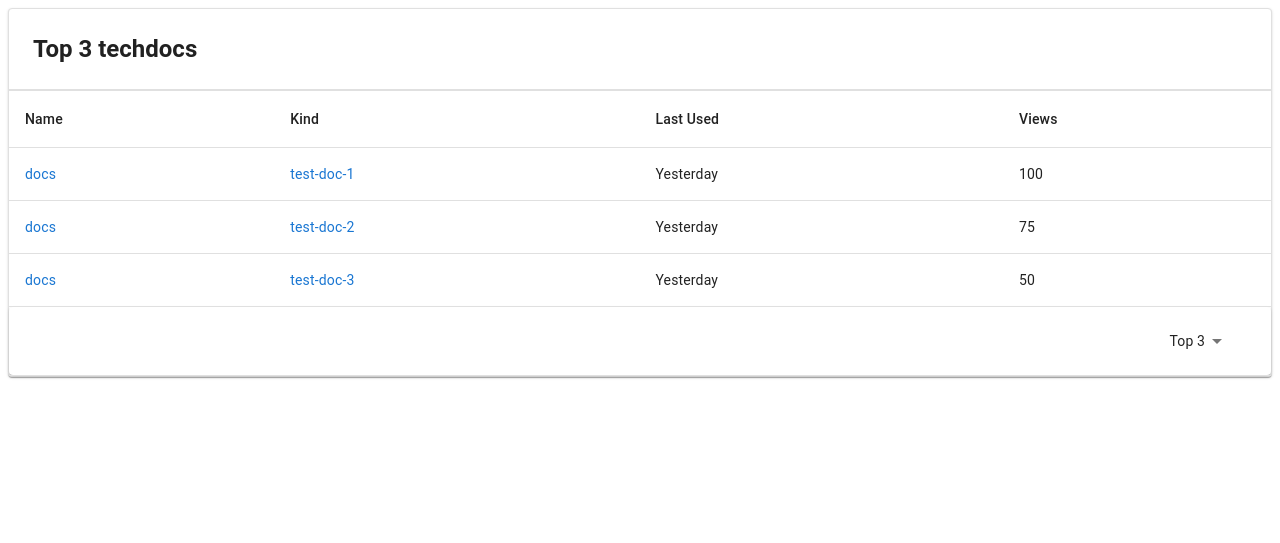
Test: Techdocs › should handle pagination correctly
Click the dropdown: (1187, 340) x1=1170 y1=332 x2=1205 y2=348
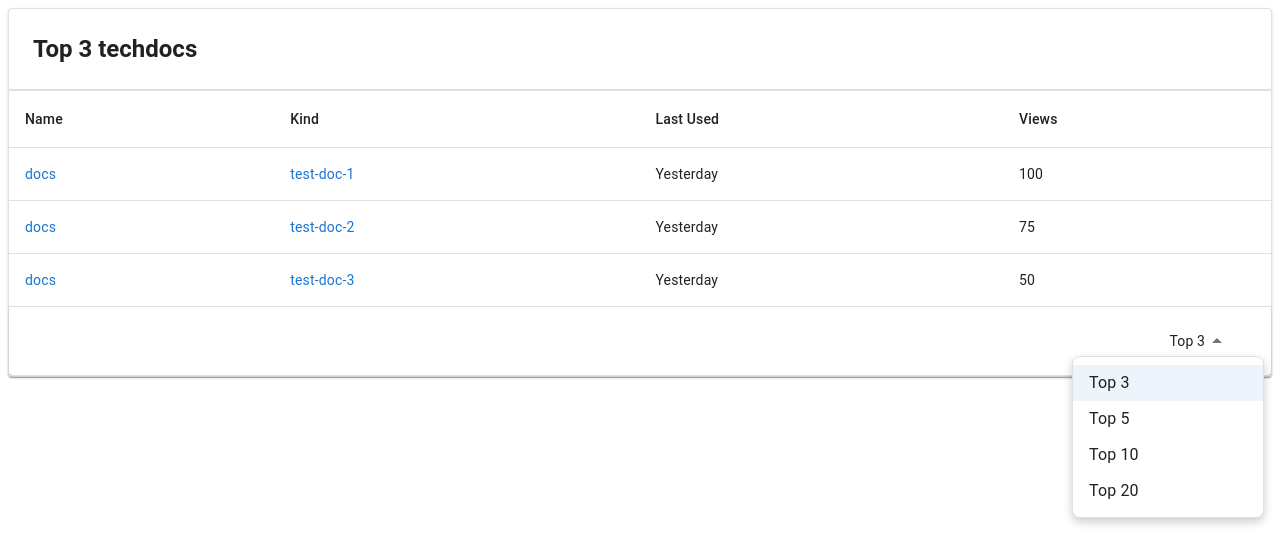
Click the option "Top 5": (1109, 418) x1=1089 y1=409 x2=1130 y2=428
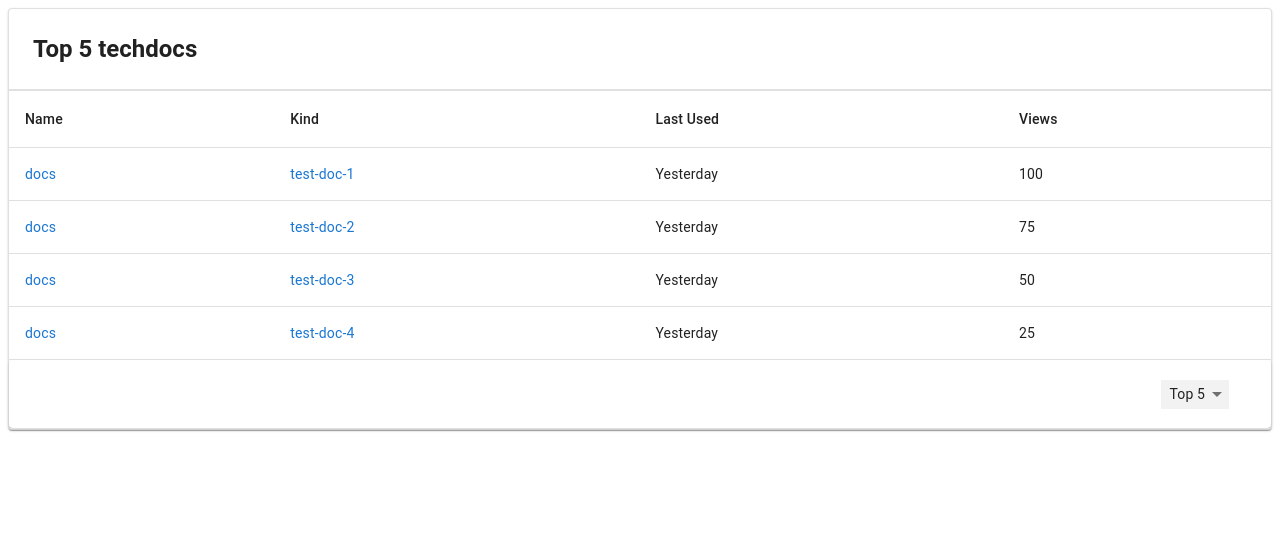
Expected: the heading "Top 5 techdocs" is shown, x1=33 y1=35 x2=197 y2=63
Expected: the number of rows is 6, x1=9 y1=91 x2=1271 y2=148; x1=9 y1=148 x2=1271 y2=200; x1=9 y1=200 x2=1271 y2=254; x1=9 y1=254 x2=1271 y2=306; x1=9 y1=307 x2=1271 y2=360; x1=9 y1=360 x2=1271 y2=429
